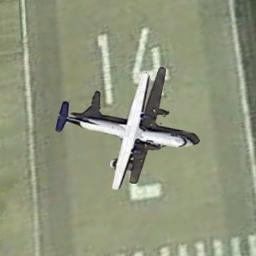Airplane: (52, 60, 196, 202)
